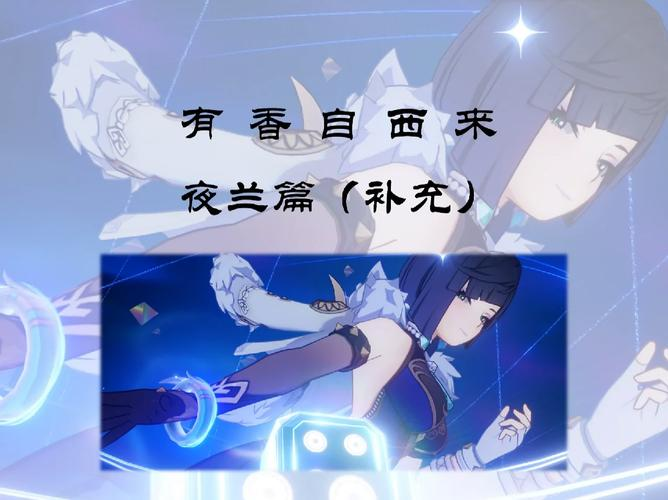夜兰: (62, 3, 668, 243), (105, 256, 532, 468)
